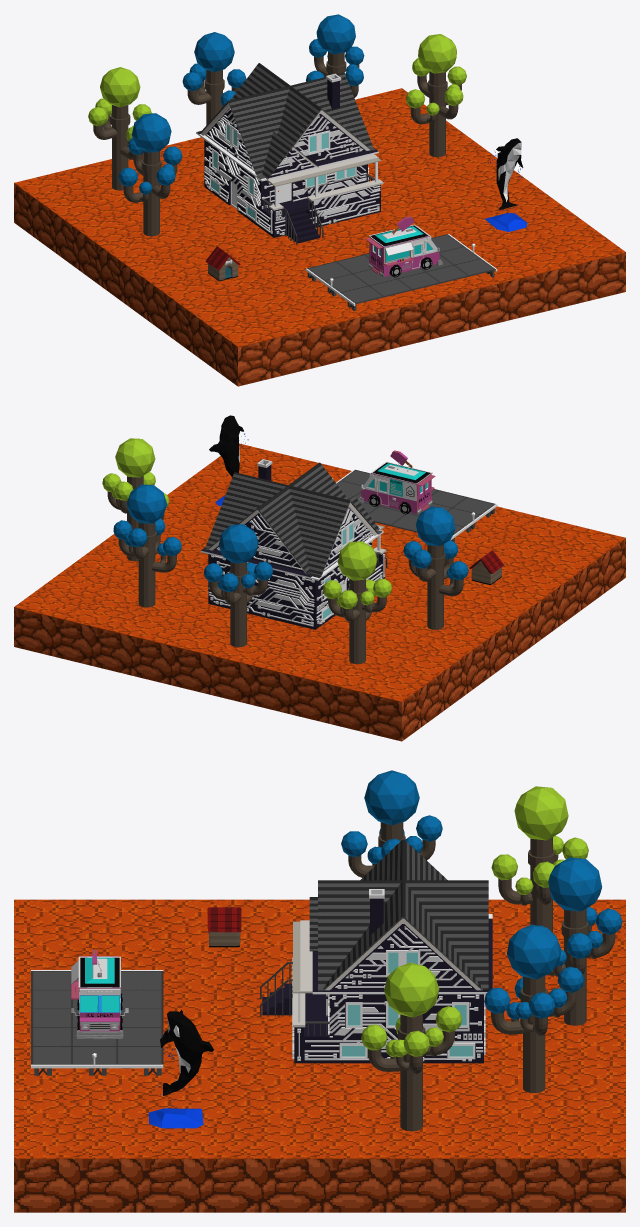
3 renders of one model, top to bottom at view 1: azimuth 30°, elevation 25°; view 2: azimuth 150°, elevation 25°; view 3: azimuth 270°, elevation 25°, orthographic. The views are drawn at different scales.
Visible parts, largest first — view 1: Cube.001, Cube.918, VEHICLES_ICE_CREAM_TRUCK, ANIMAL_ORCA, OBJRANDOM_DOGHOUSE; view 2: Cube.001, Cube.918, VEHICLES_ICE_CREAM_TRUCK, ANIMAL_ORCA, OBJRANDOM_DOGHOUSE; view 3: Cube.001, Cube.918, VEHICLES_ICE_CREAM_TRUCK, ANIMAL_ORCA, OBJRANDOM_DOGHOUSE.
Part boxes in pixels (x1=…): Cube.001: x1=14, y1=14, x2=625, y2=386; Cube.918: x1=196, y1=63, x2=383, y2=244; VEHICLES_ICE_CREAM_TRUCK: x1=365, y1=216, x2=443, y2=277; ANIMAL_ORCA: x1=485, y1=138, x2=527, y2=231; OBJRANDOM_DOGHOUSE: x1=205, y1=246, x2=240, y2=281; Cube.001: x1=14, y1=438, x2=625, y2=741; Cube.918: x1=200, y1=459, x2=387, y2=629; VEHICLES_ICE_CREAM_TRUCK: x1=358, y1=450, x2=435, y2=514; ANIMAL_ORCA: x1=209, y1=415, x2=248, y2=505; OBJRANDOM_DOGHOUSE: x1=469, y1=550, x2=504, y2=584; Cube.001: x1=14, y1=770, x2=625, y2=1212; Cube.918: x1=260, y1=839, x2=492, y2=1063; VEHICLES_ICE_CREAM_TRUCK: x1=71, y1=950, x2=128, y2=1039; ANIMAL_ORCA: x1=148, y1=1010, x2=213, y2=1128; OBJRANDOM_DOGHOUSE: x1=207, y1=907, x2=241, y2=947.
Bounding box in the file's own units: 4000 × 1667 × 4000.
45 materials, 4 textured.
